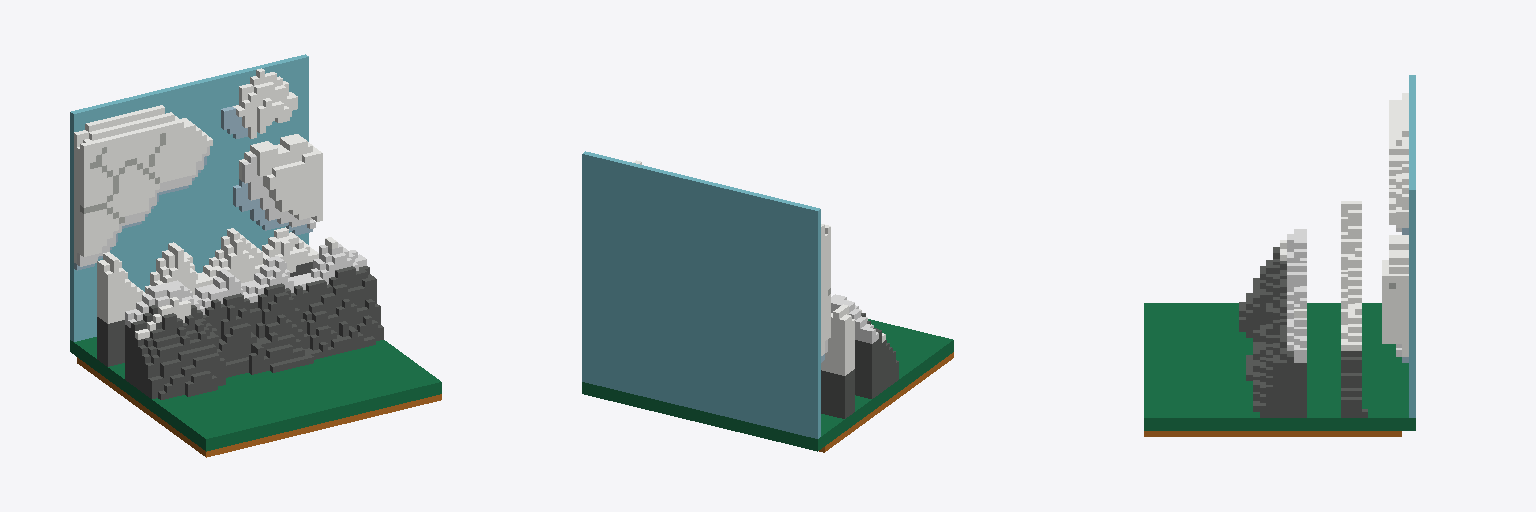
3 views of the same model, side by side, from view 1: azimuth 30°, elevation 25°; view 2: azimuth 150°, elevation 25°; view 3: azimuth 270°, elevation 25° (orthographic).
Parts seen in each view (by area): view 1: object 1; view 2: object 1; view 3: object 1.
Part boxes in pixels (x1,y1,x2,y2): object 1: (70,54,441,457); object 1: (582,151,953,452); object 1: (1144,75,1415,436).
Bounding box in the file's own units: 4 × 4 × 4.
1 materials, 1 textured.